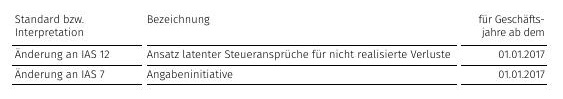table: (0, 0, 563, 99)
